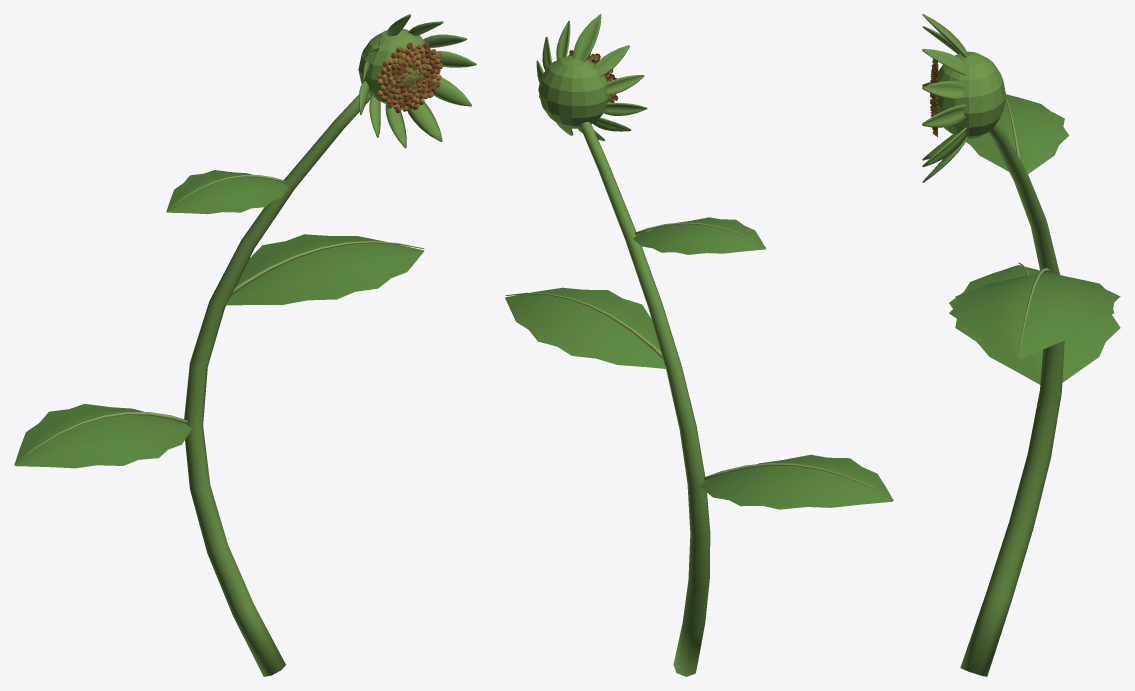
The model's file is sunflower-v2-bud-2.glb.
The picture shows the model from 3 angles, left to right: view 1: azimuth 30°, elevation 25°; view 2: azimuth 150°, elevation 25°; view 3: azimuth 270°, elevation 25°; orthographic projection. The views are drawn at different scales.
Visible parts, largest first — view 1: Curved tapered stem; view 2: Curved tapered stem; view 3: Curved tapered stem.
Part boxes in pixels (<box>): Curved tapered stem: <box>14,14,476,676</box>; Curved tapered stem: <box>505,14,893,676</box>; Curved tapered stem: <box>922,14,1120,676</box>.
Size of the model in its own units: 0.3327 by 0.4933 by 0.1223.
